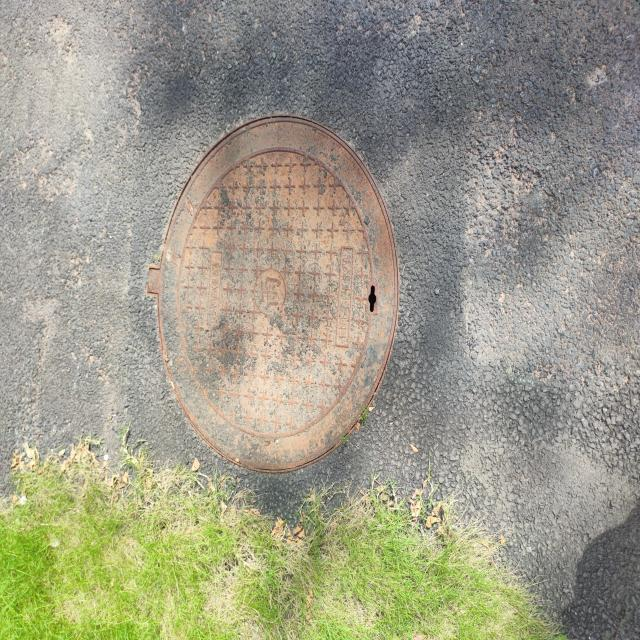Good: (134, 112, 410, 484)
